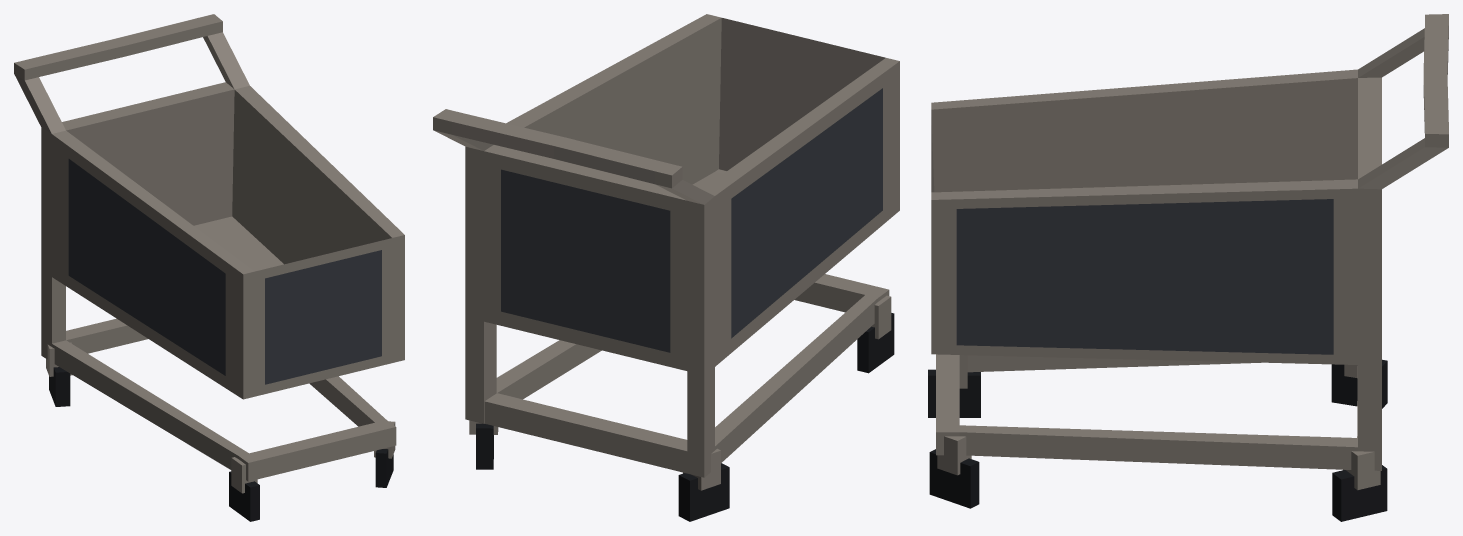
File: CART.fbx
3 views of the same model, side by side, from view 1: azimuth 30°, elevation 25°; view 2: azimuth 150°, elevation 25°; view 3: azimuth 270°, elevation 25° (orthographic). The views are drawn at different scales.
Visible parts, largest first — view 1: polySurface1; view 2: polySurface1; view 3: polySurface1.
Part boxes in pixels (left/top/right/bottom): polySurface1: left=14, top=14, right=404, bottom=521; polySurface1: left=433, top=14, right=899, bottom=521; polySurface1: left=928, top=14, right=1448, bottom=521.
Bounding box in the file's own units: 0.2073 × 0.2919 × 0.3597.
Materials: 1 (1 with a texture image).
